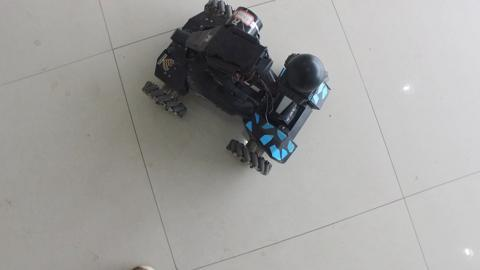chariot: (138, 2, 328, 180)
